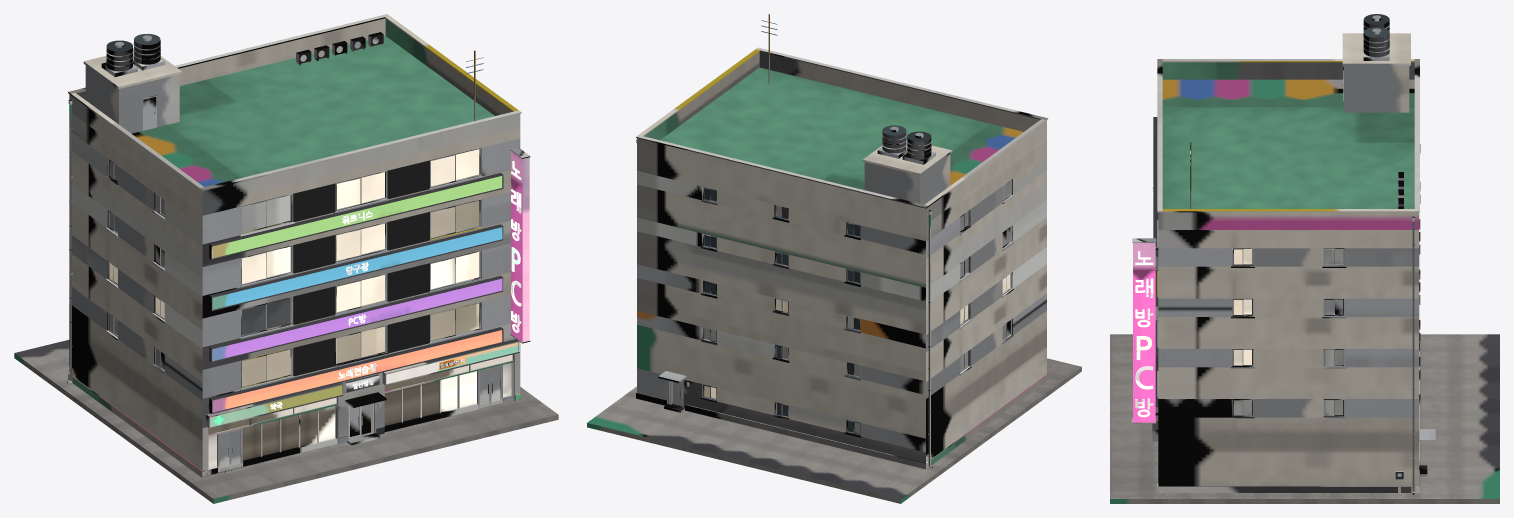
File: IlsanMixed01_LOD1.fbx
3 views of the same model, side by side, from view 1: azimuth 30°, elevation 25°; view 2: azimuth 150°, elevation 25°; view 3: azimuth 270°, elevation 25° (orthographic). The views are drawn at different scales.
Parts seen in each view (by area): view 1: IlsanMixed01_LOD1; view 2: IlsanMixed01_LOD1; view 3: IlsanMixed01_LOD1.
Part boxes in pixels (bbox=[...]): IlsanMixed01_LOD1: bbox=[14, 14, 558, 503]; IlsanMixed01_LOD1: bbox=[587, 14, 1081, 503]; IlsanMixed01_LOD1: bbox=[1110, 14, 1499, 503].
Size of the model in its own units: 23.9 by 23.15 by 23.9.
Materials: 1 (1 with a texture image).
